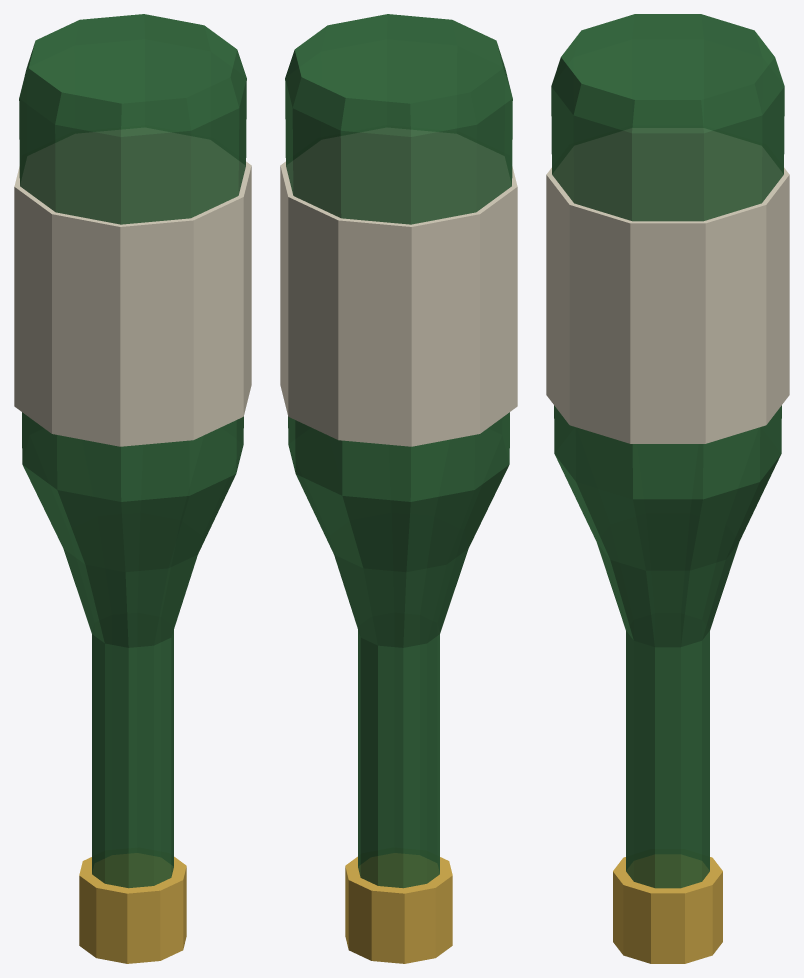
File: bottle.glb
The picture shows the model from 3 angles, left to right: view 1: azimuth 30°, elevation 25°; view 2: azimuth 150°, elevation 25°; view 3: azimuth 270°, elevation 25°; orthographic projection.
Visible parts, largest first — view 1: bottle; view 2: bottle; view 3: bottle.
Boxes of the visible parts, box(x1,y1,x2,y2) form: bottle: box(14, 14, 251, 963); bottle: box(280, 14, 517, 963); bottle: box(546, 14, 789, 963).
Bounding box in the file's own units: 0.0713 × 0.301 × 0.075.
